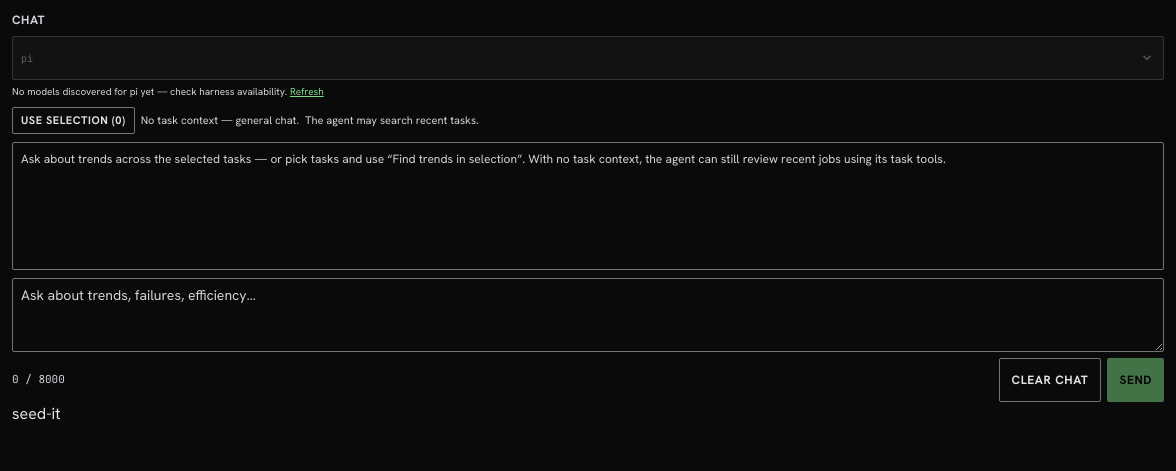
it: RetrospectiveChat › surfaces turn failures as errors
The width and height of the screenshot is (1176, 471).
Type "hi" into the text box with test id "retrospective-chat-input" at (588, 314), box [12,278,1164,352]
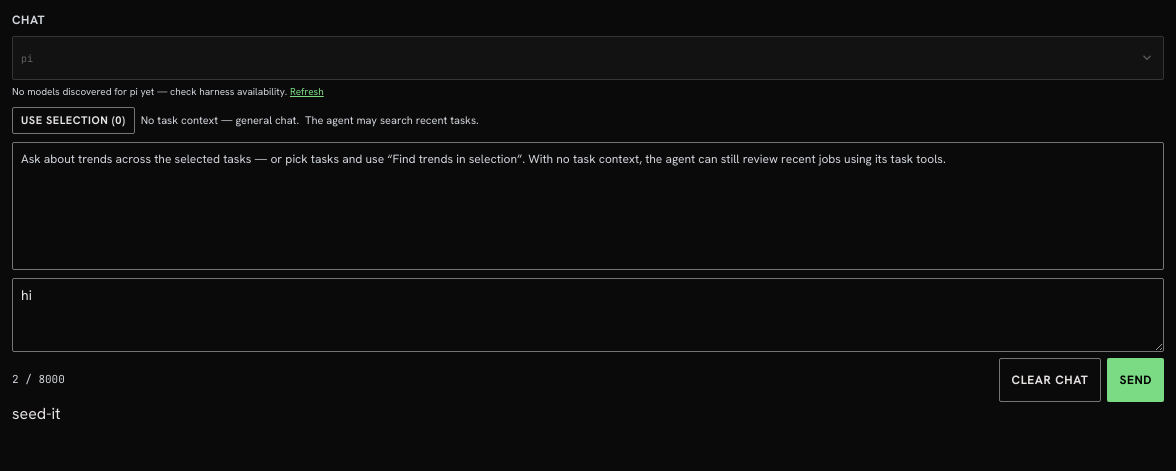
Click the button with test id "retrospective-chat-send" at (1136, 380), box [1107,358,1164,402]
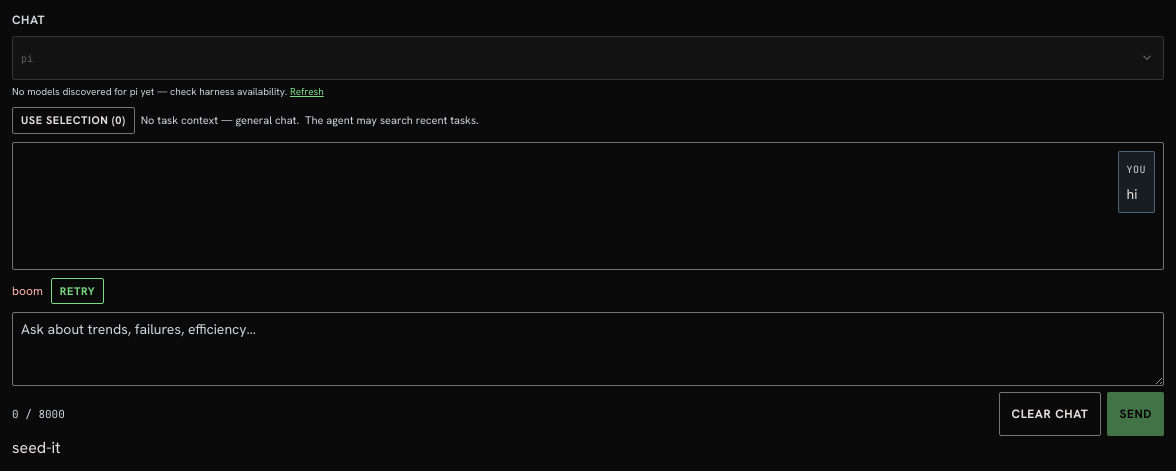
expect the message with test id "retrospective-chat-error" reads "boom": met, box [12,283,43,299]
